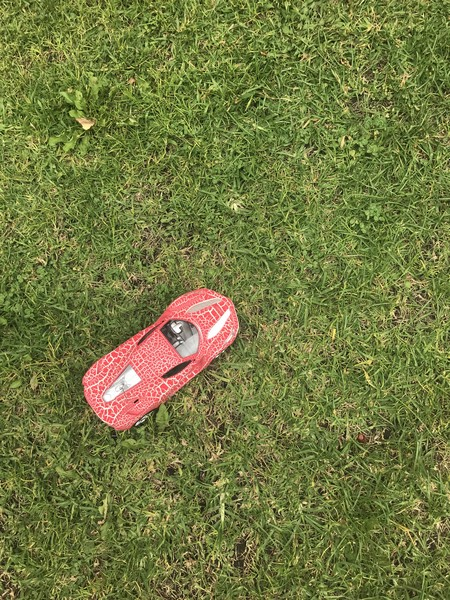RC: (79, 285, 242, 431)
